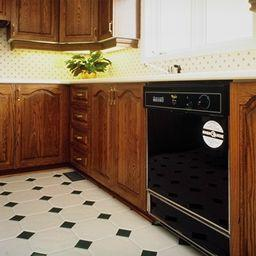Electrodomestico: (148, 83, 230, 255)
